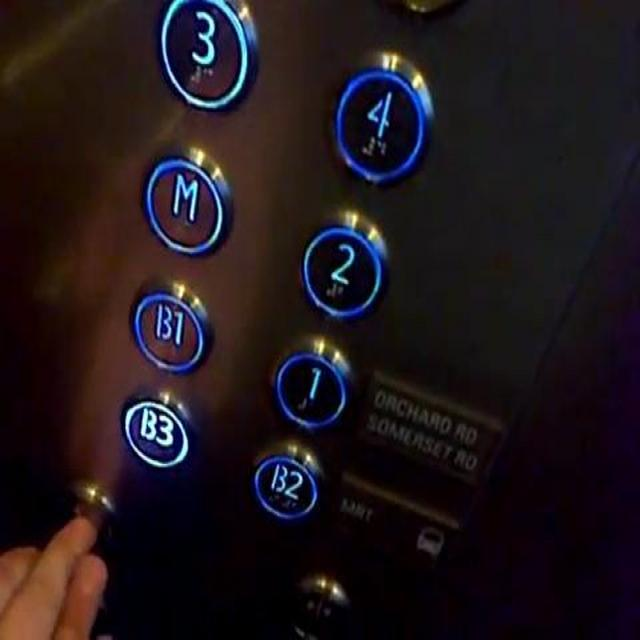1: (268, 336, 357, 435)
2: (296, 208, 393, 323)
3: (157, 0, 259, 115)
4: (334, 42, 437, 190)
B1: (129, 277, 215, 373)
B2: (240, 439, 327, 532)
B3: (113, 388, 197, 471)
M: (138, 148, 233, 257)
